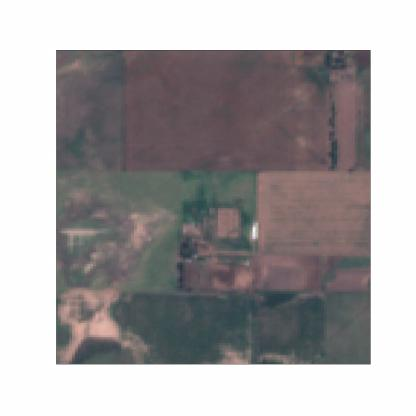silobolsa: (251, 218, 259, 242)
